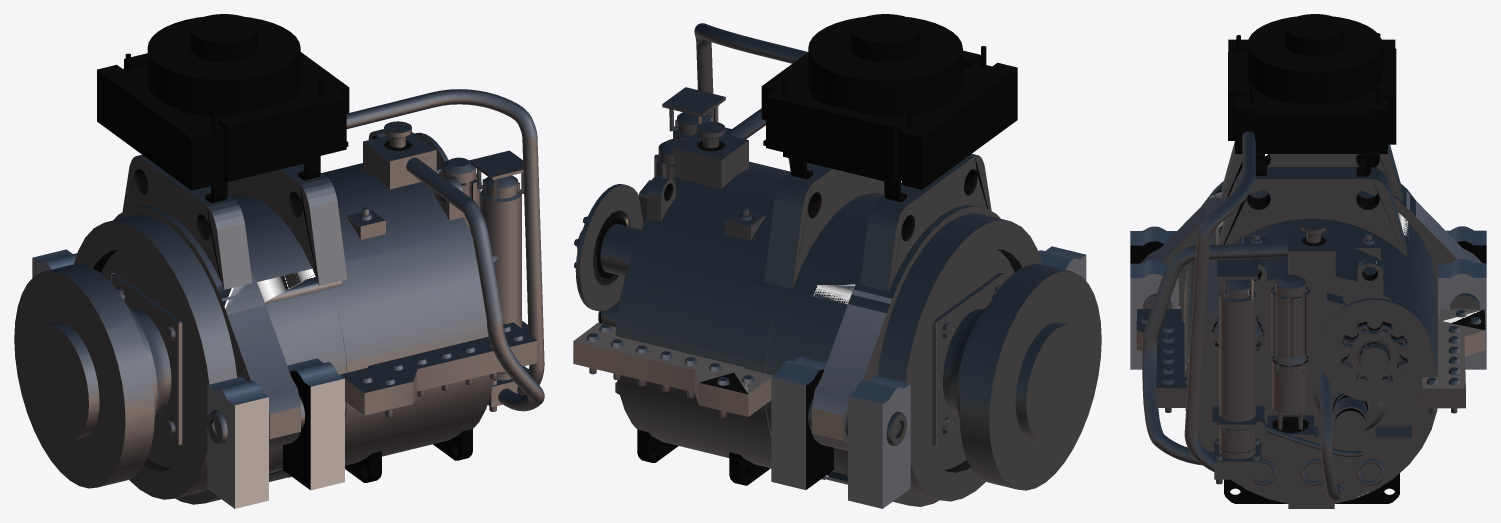
File: fadongji.gltf
3 views of the same model, side by side, from view 1: azimuth 30°, elevation 25°; view 2: azimuth 150°, elevation 25°; view 3: azimuth 270°, elevation 25° (orthographic). The views are drawn at different scales.
Parts seen in each view (by area): view 1: 发动机; view 2: 发动机; view 3: 发动机.
Part boxes in pixels (bbox=[...]): 发动机: bbox=[14, 14, 544, 508]; 发动机: bbox=[573, 14, 1101, 508]; 发动机: bbox=[1130, 14, 1486, 508].
Size of the model in its own units: 10.3 by 10.31 by 8.38.
44 materials, 42 textured.
